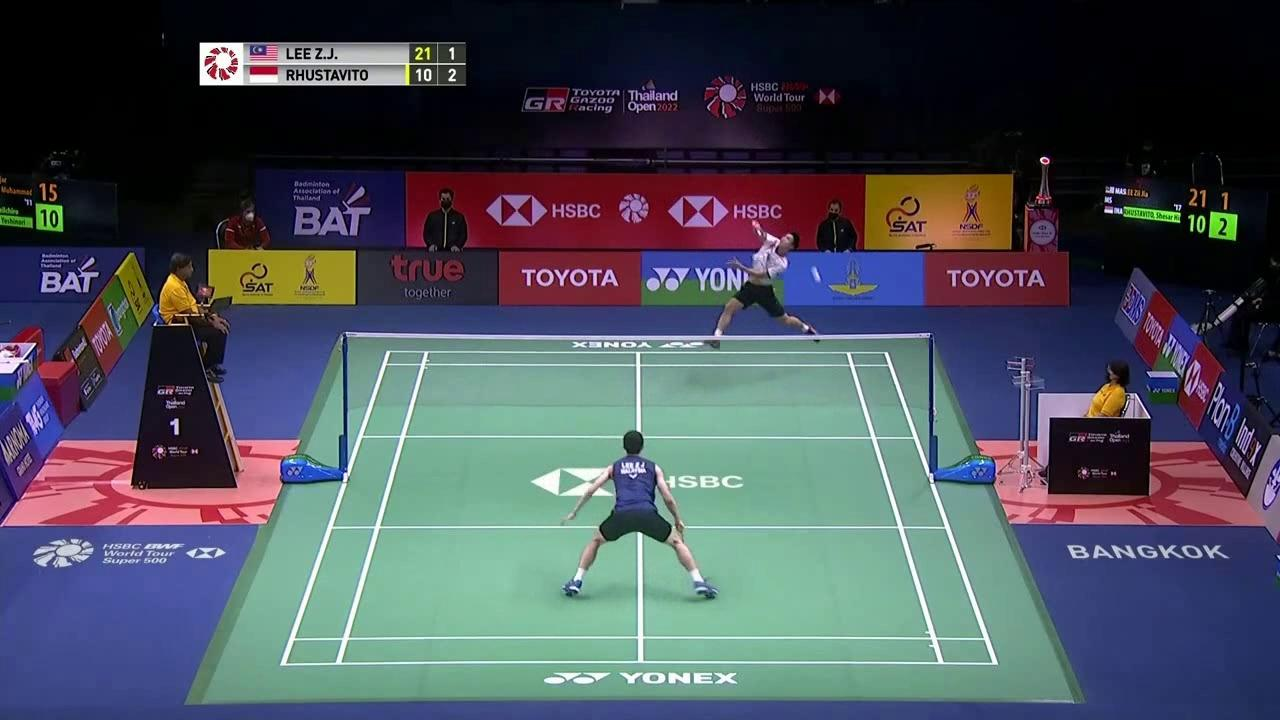racket: (675, 522, 683, 551)
shuttle: (811, 266, 821, 281)
